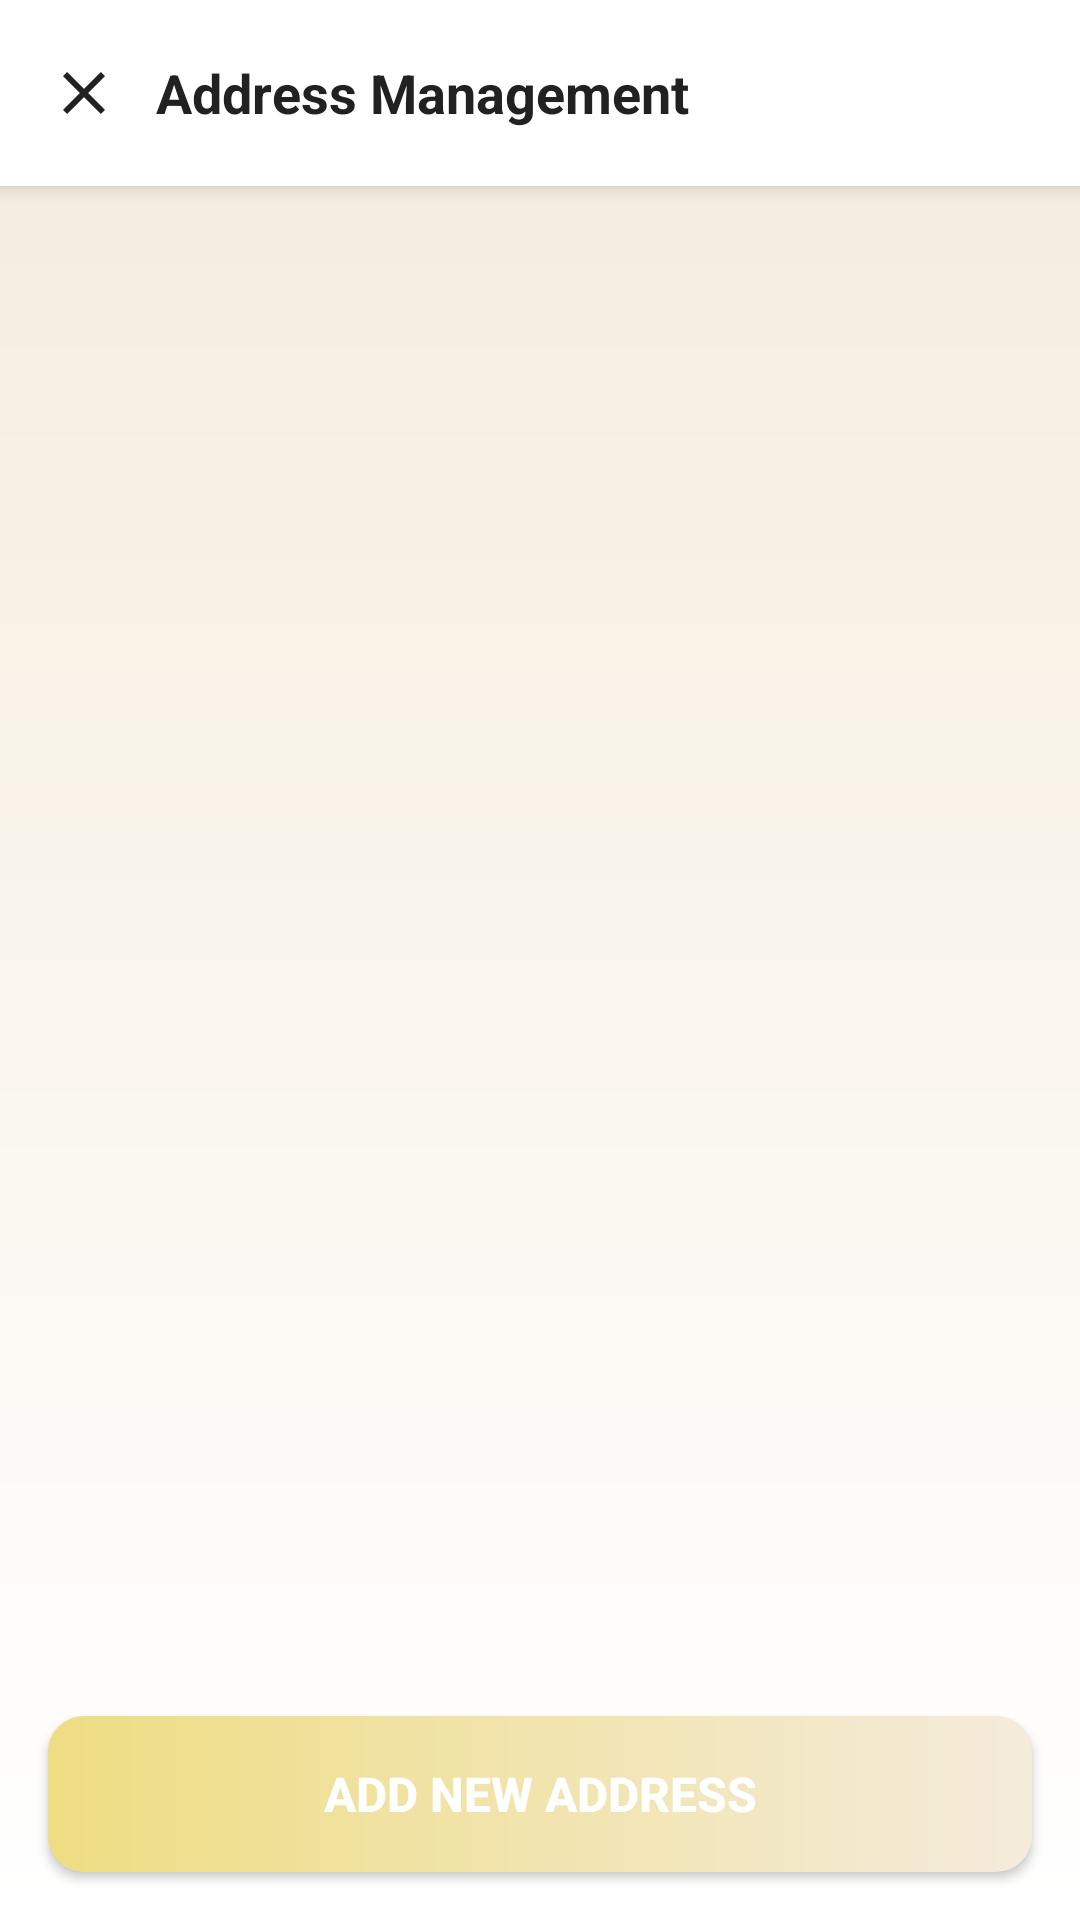

Icons on this 1080*1920 Android screen, each with the point to tap as point (x, y):
close: point (84, 93)
